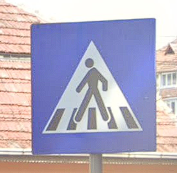trecere_pietoni: (25, 16, 162, 157)
